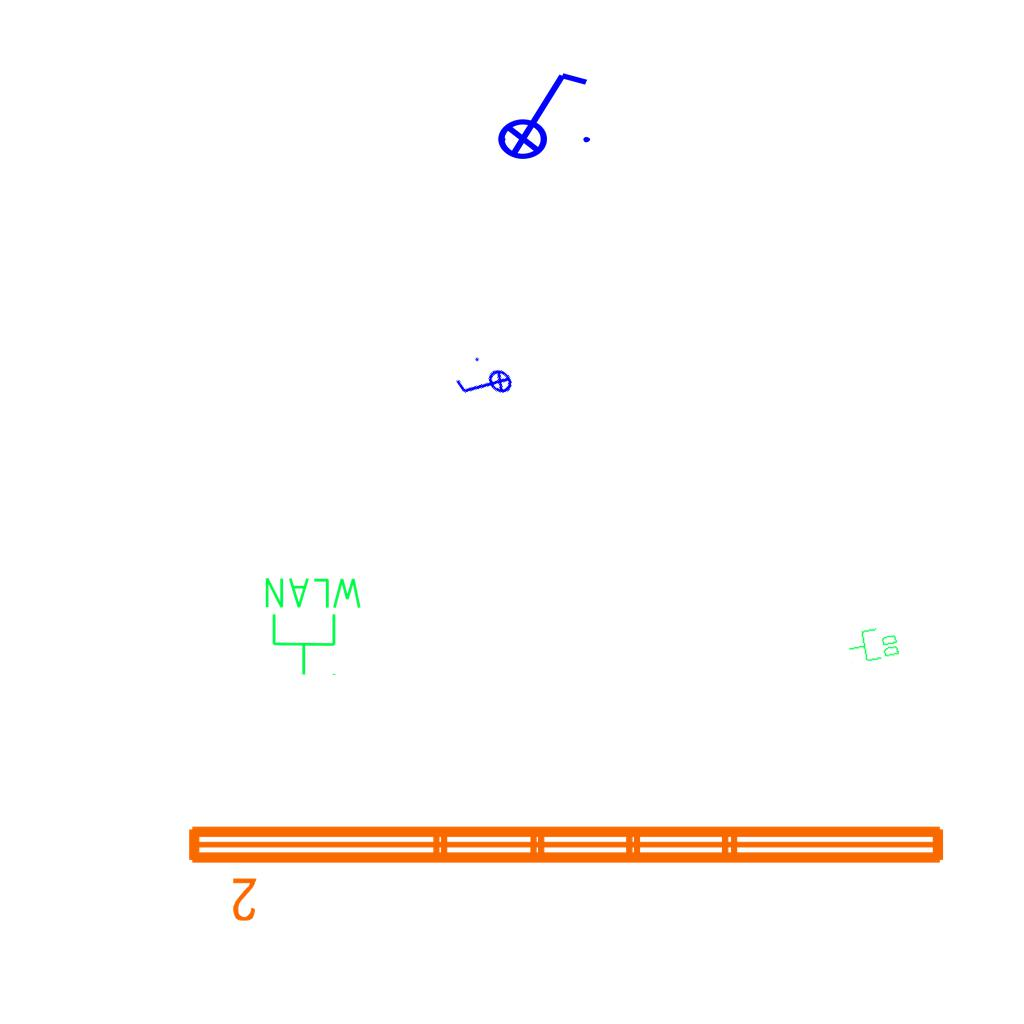Ambulanz_Pendelleuchte_LED: (180, 814, 954, 926)
Ausschalter_beleuchtet: (484, 65, 596, 161), (448, 348, 522, 422)
Datenanschluss_zweifach: (845, 623, 902, 667)
WLAN: (261, 574, 366, 678)
